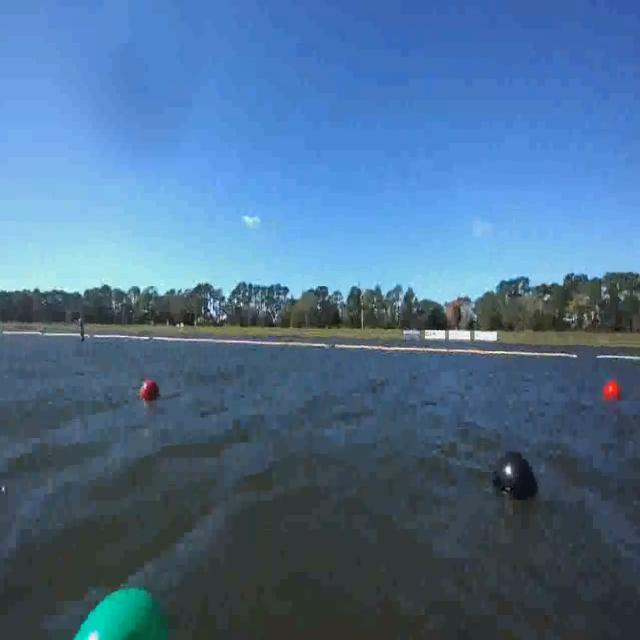black-buoy: (495, 442, 536, 504)
green-buoy: (33, 568, 187, 640)
red-buoy: (142, 378, 159, 399), (605, 378, 622, 399)
